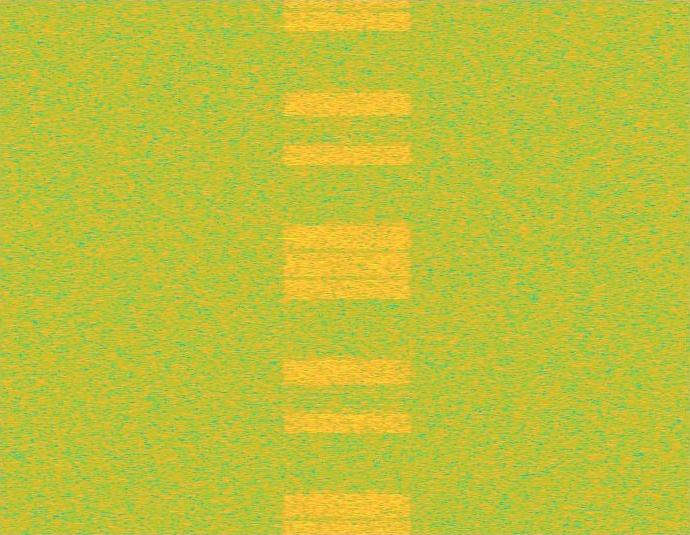LTE: (279, 0, 417, 534)
Radar: (282, 0, 296, 534)
